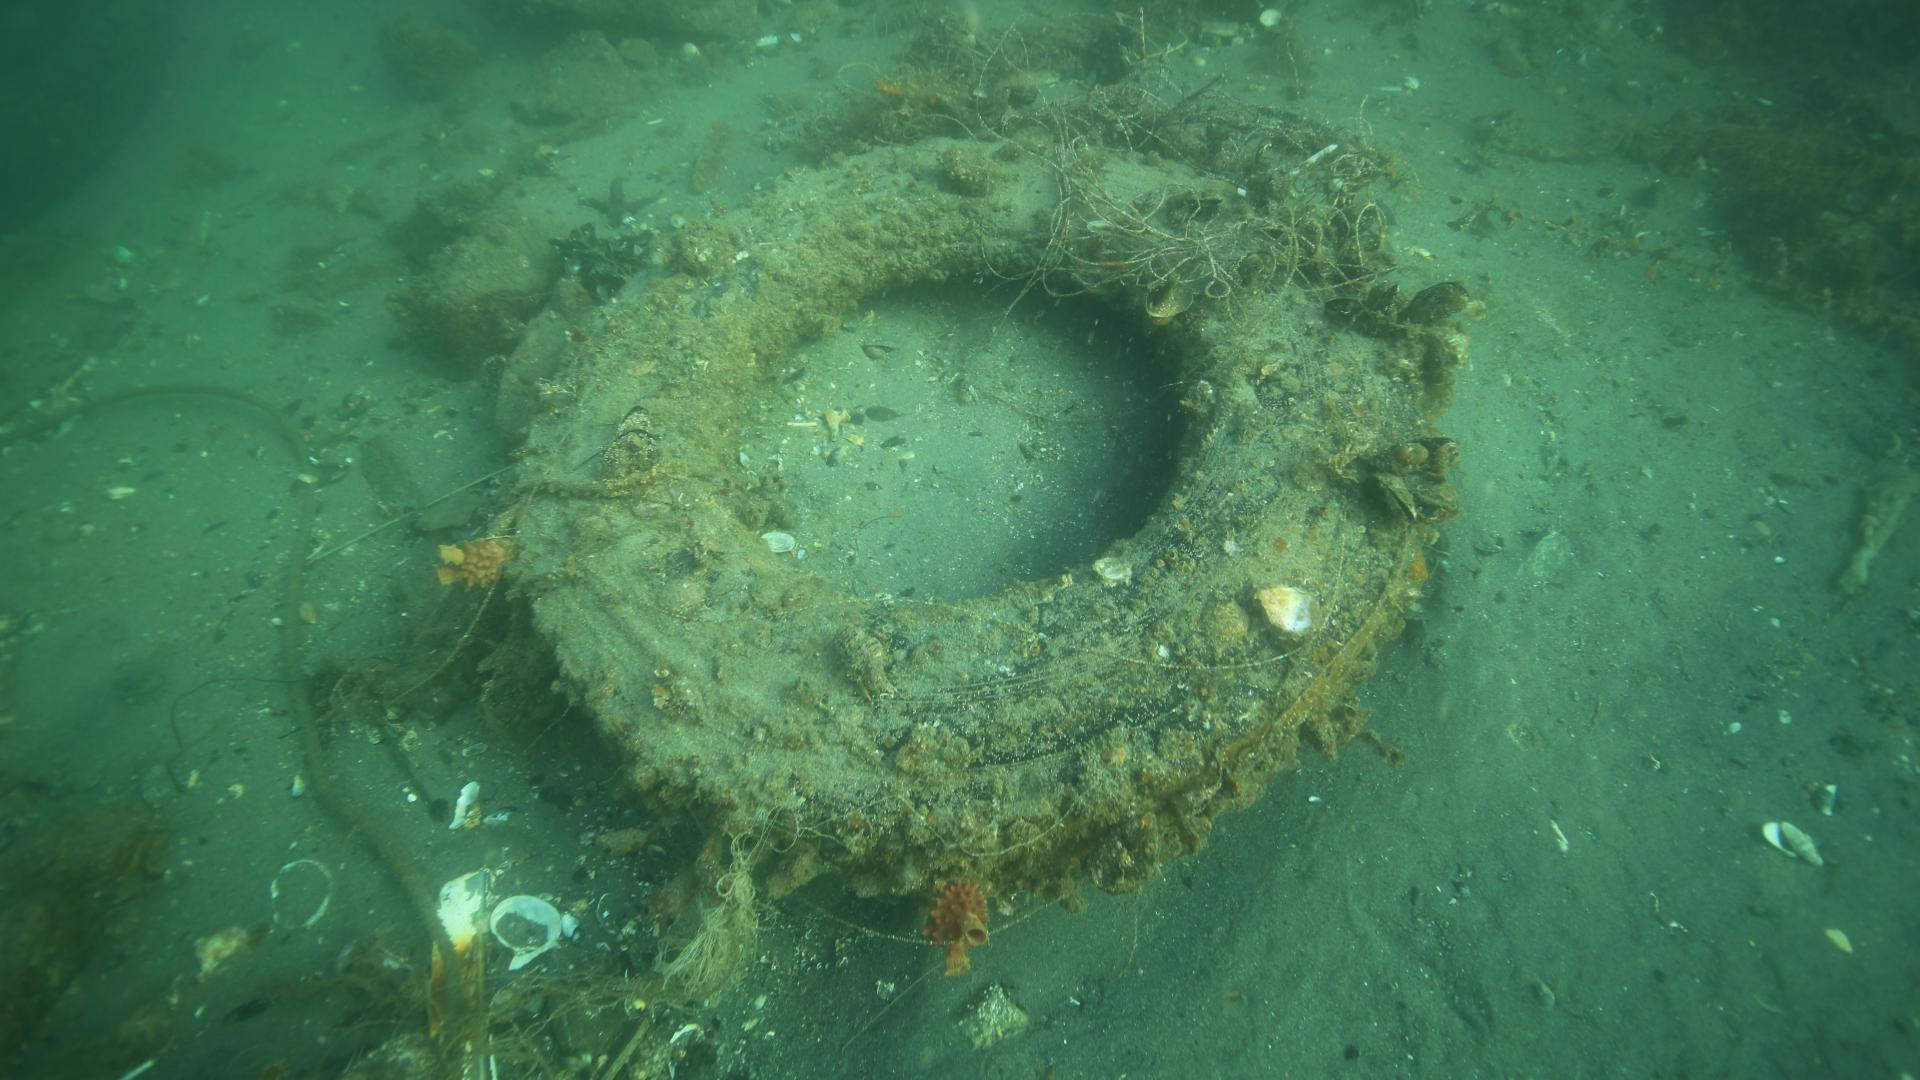tire: (495, 115, 1453, 914)
